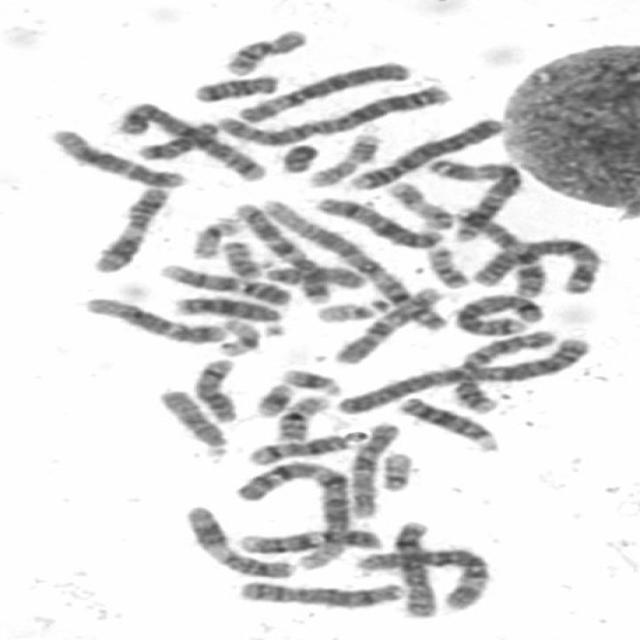A1: (239, 194, 454, 334), (226, 455, 355, 573)
A2: (325, 328, 587, 417), (211, 78, 456, 148)
A3: (418, 152, 527, 241), (463, 232, 605, 296)
B4: (341, 111, 509, 192), (453, 322, 559, 416)
B5: (106, 95, 271, 184), (446, 288, 546, 337)
C10: (326, 280, 446, 366), (339, 416, 404, 520)
C11: (174, 498, 300, 580), (82, 180, 174, 274)
C12: (39, 123, 189, 189), (75, 291, 228, 345)
C6: (227, 54, 413, 125), (345, 541, 496, 612)
C7: (225, 196, 337, 305), (443, 201, 548, 299)
C8: (229, 574, 410, 610), (384, 514, 442, 619)
C9: (151, 258, 295, 307), (228, 522, 387, 556)
D13: (390, 390, 503, 452), (165, 289, 289, 337)
D14: (238, 428, 358, 466), (184, 352, 242, 423)
D15: (149, 383, 232, 459), (253, 256, 369, 290)
E16: (214, 23, 312, 77), (267, 389, 332, 443)
E17: (299, 127, 384, 188), (379, 175, 457, 231)
E18: (127, 115, 221, 162), (183, 68, 282, 103)
F19: (182, 211, 246, 260), (208, 312, 264, 358)
F20: (418, 239, 472, 289), (214, 236, 265, 280)
G21: (273, 362, 345, 396), (245, 376, 296, 418)
G22: (308, 292, 392, 324), (372, 445, 416, 492)
X: (306, 191, 447, 250)
Y: (271, 137, 323, 174)
